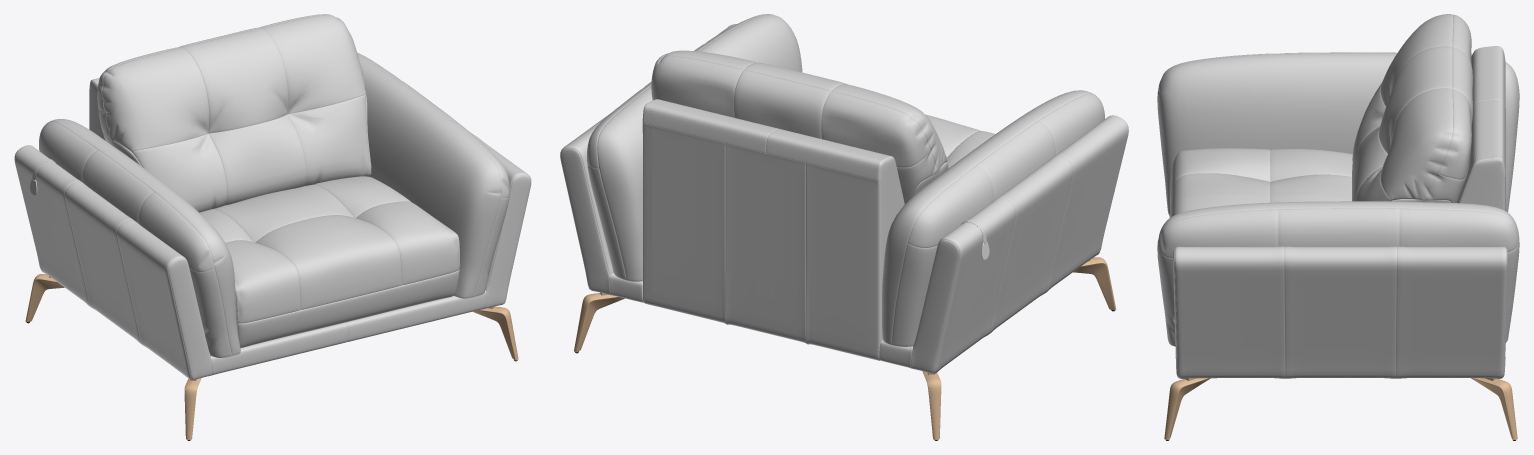
Rendered from SBH_ELENA_1_Seater.glb.
3 renders of one model, left to right at view 1: azimuth 30°, elevation 25°; view 2: azimuth 150°, elevation 25°; view 3: azimuth 270°, elevation 25°, orthographic. The views are drawn at different scales.
Visible parts, largest first — view 1: ELENA_1_Seater; view 2: ELENA_1_Seater; view 3: ELENA_1_Seater.
Part boxes in pixels (left/top/right/bottom): ELENA_1_Seater: left=14, top=14, right=531, bottom=440; ELENA_1_Seater: left=560, top=14, right=1128, bottom=440; ELENA_1_Seater: left=1157, top=14, right=1519, bottom=440.
Size of the model in its own units: 1.25 by 0.871 by 0.9915.
